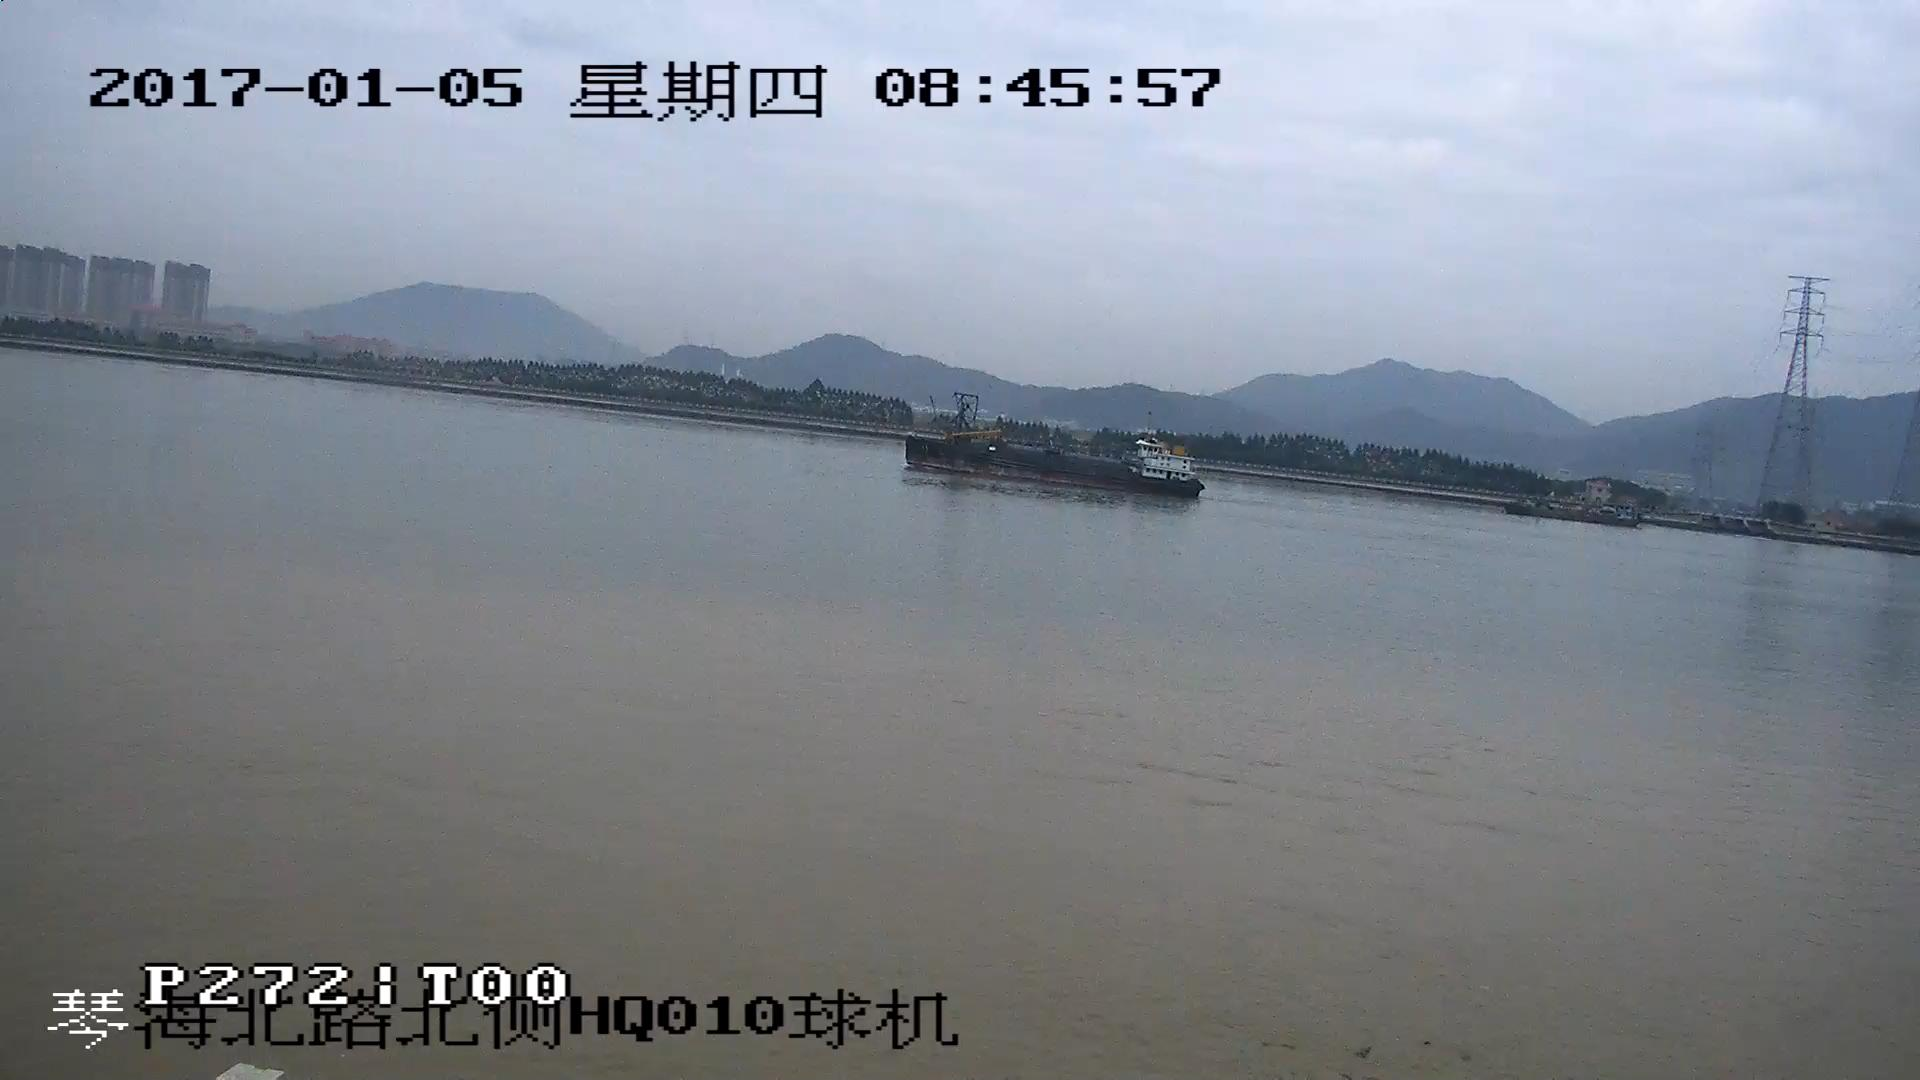bulk cargo carrier: (904, 394, 1206, 499)
